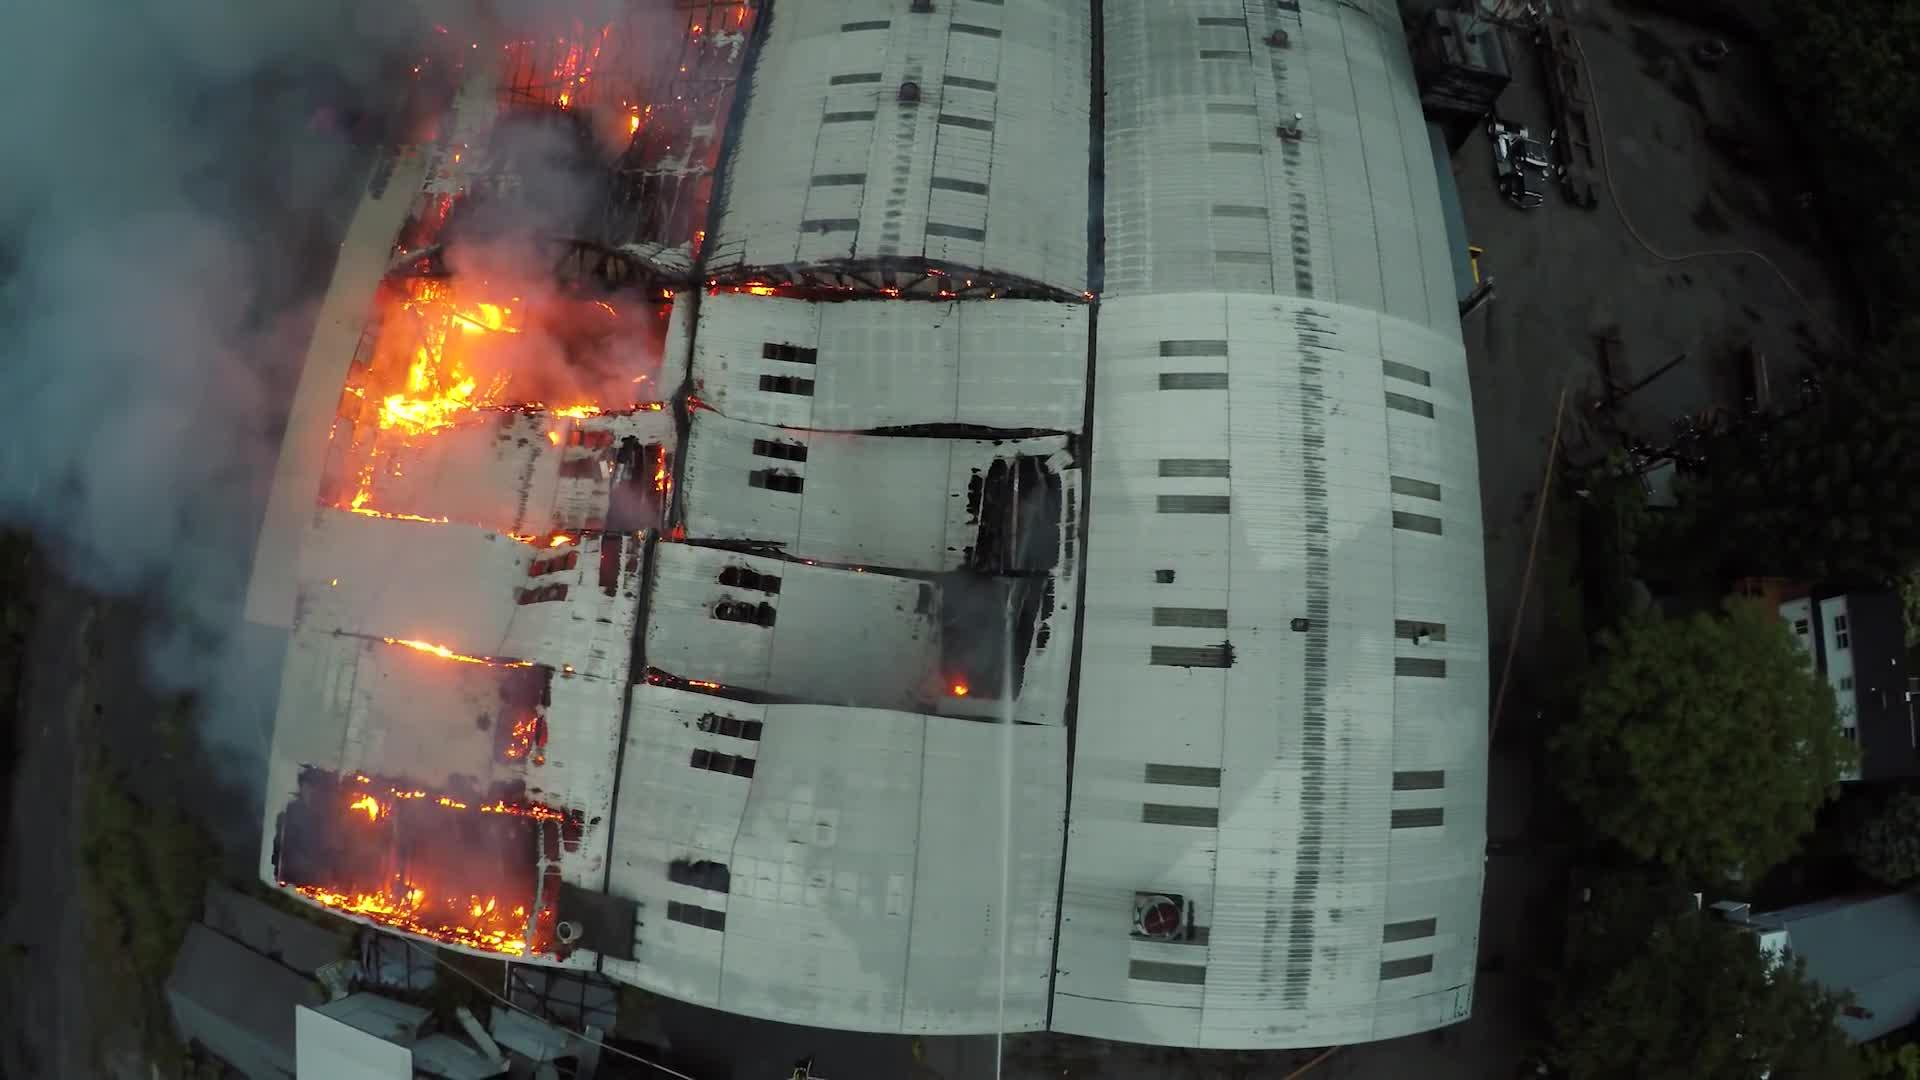fire: (316, 1, 657, 599), (310, 755, 558, 975)
smoke: (20, 15, 283, 572)
